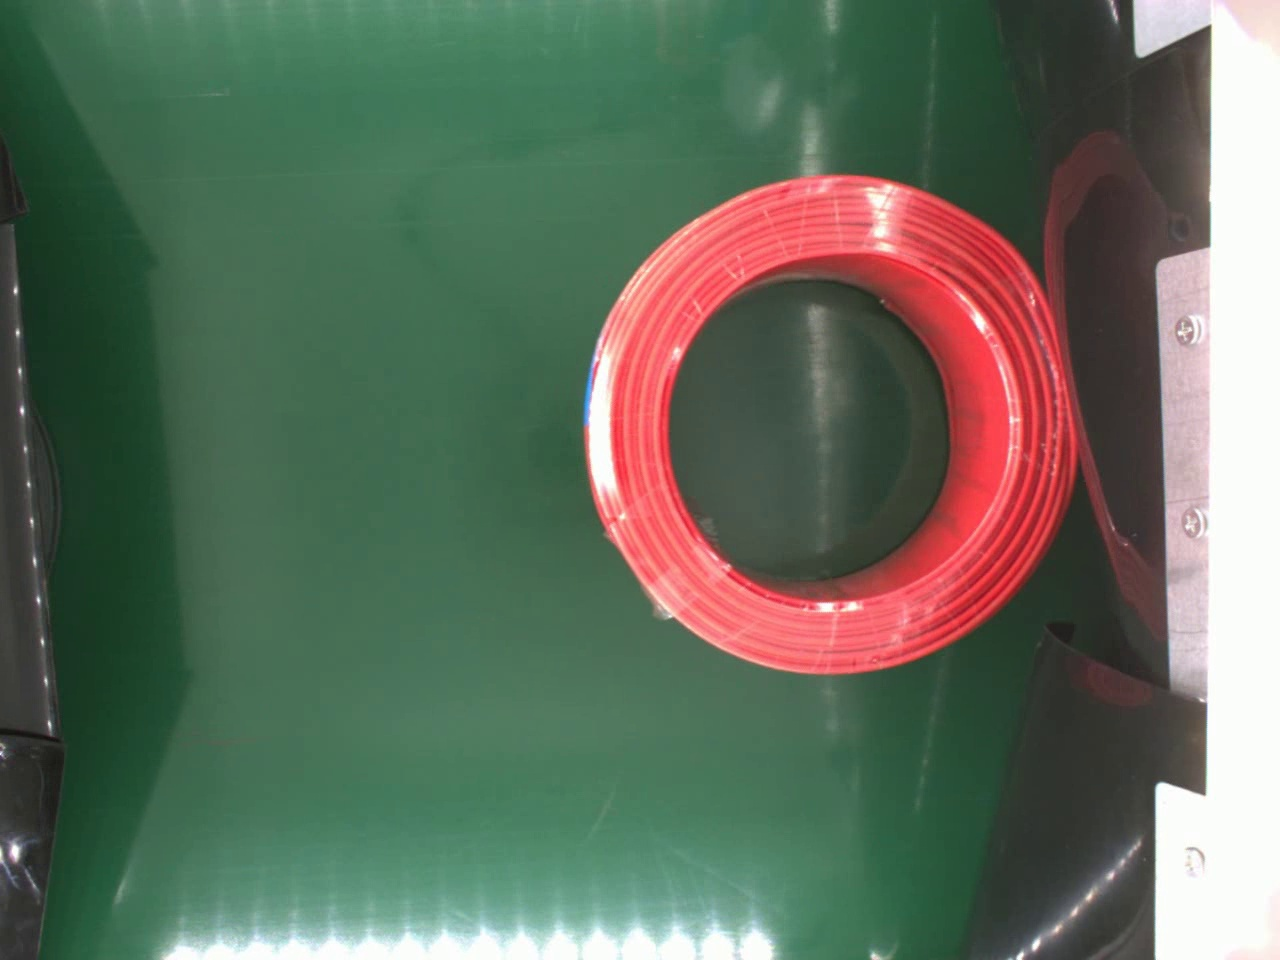red: (578, 169, 1080, 676)
